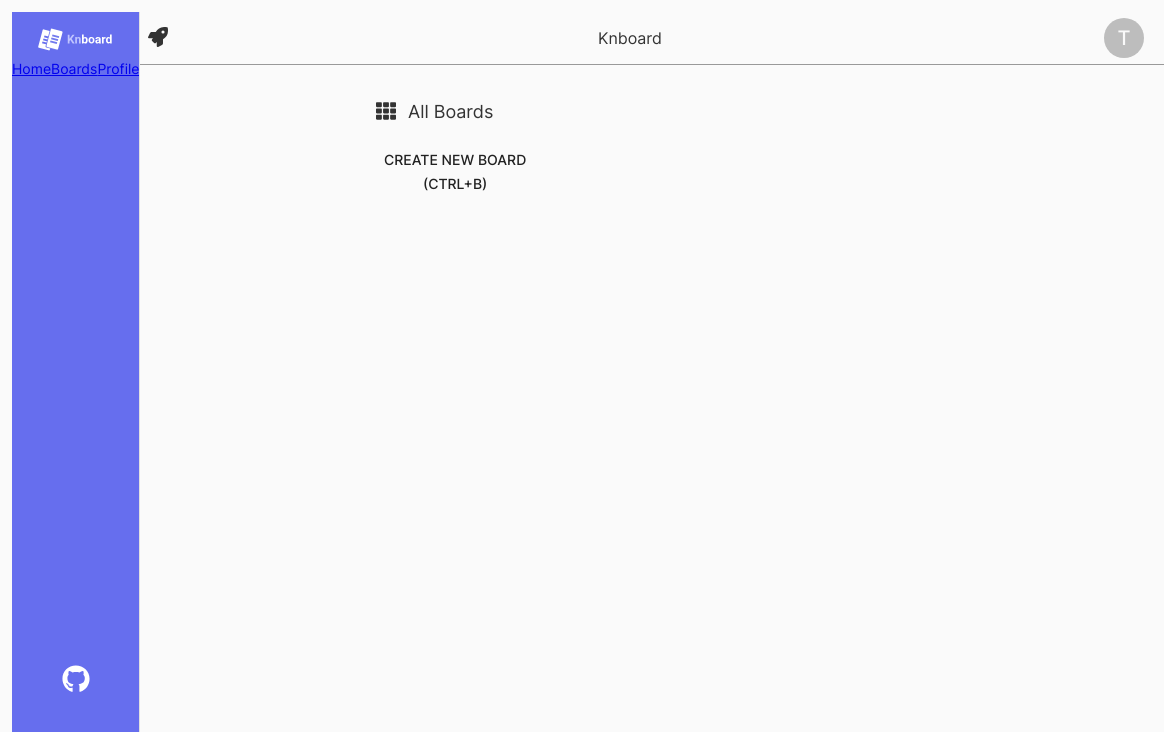
Test: Stubbed Auth › should show login view after clicking logout via user menu
The image size is (1164, 732).
Click the button with test id "user-menu" at (1124, 38), box [1092, 12, 1156, 64]
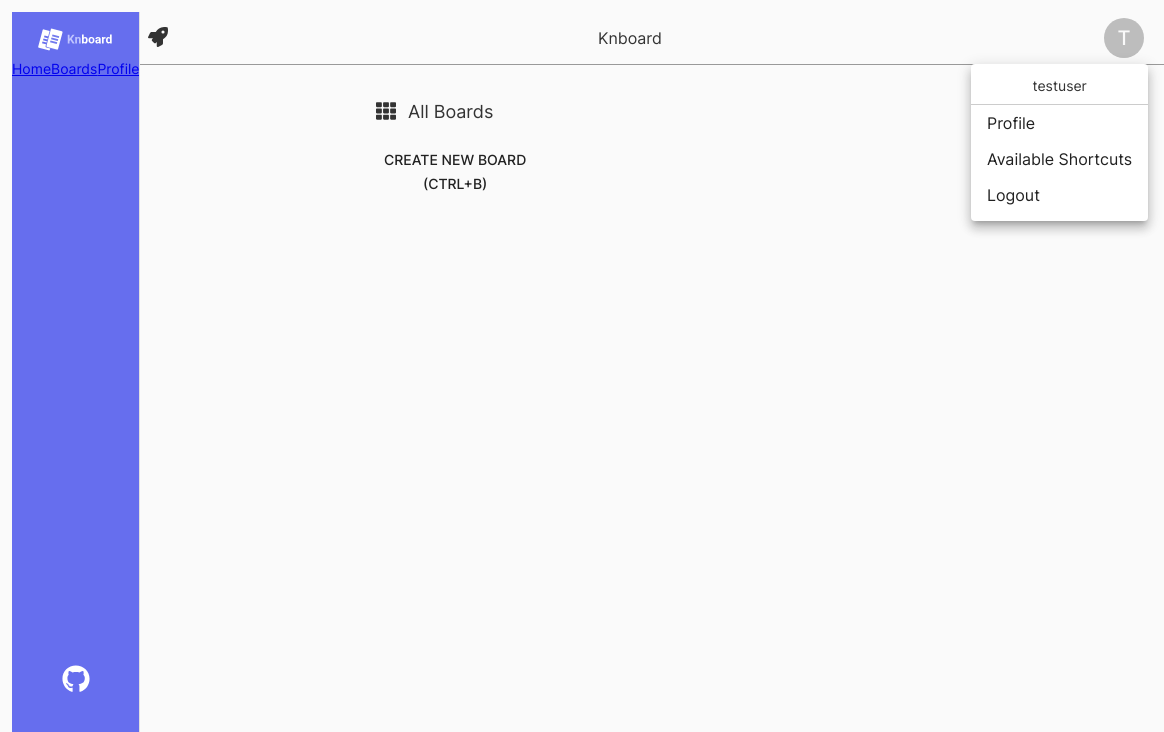
Click the menu item "Logout" at (1014, 195), box [987, 185, 1040, 205]
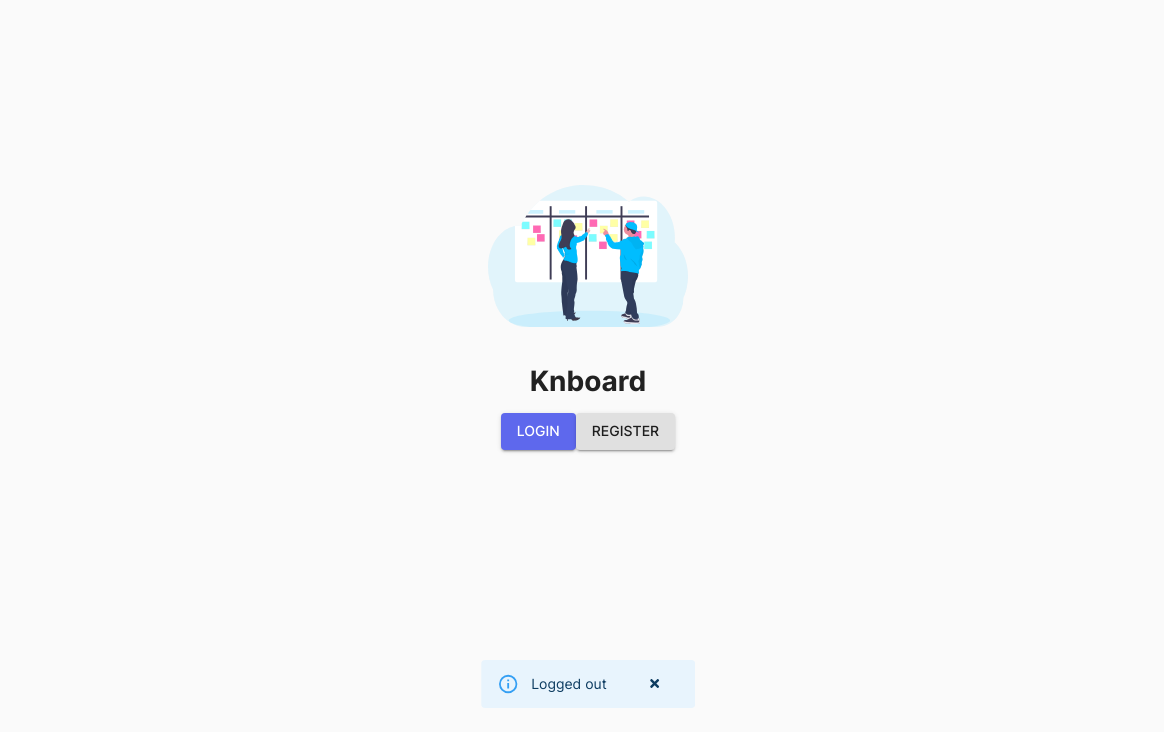
Expected: the button with test id "open-login-btn" is shown, [501, 413, 576, 450]
